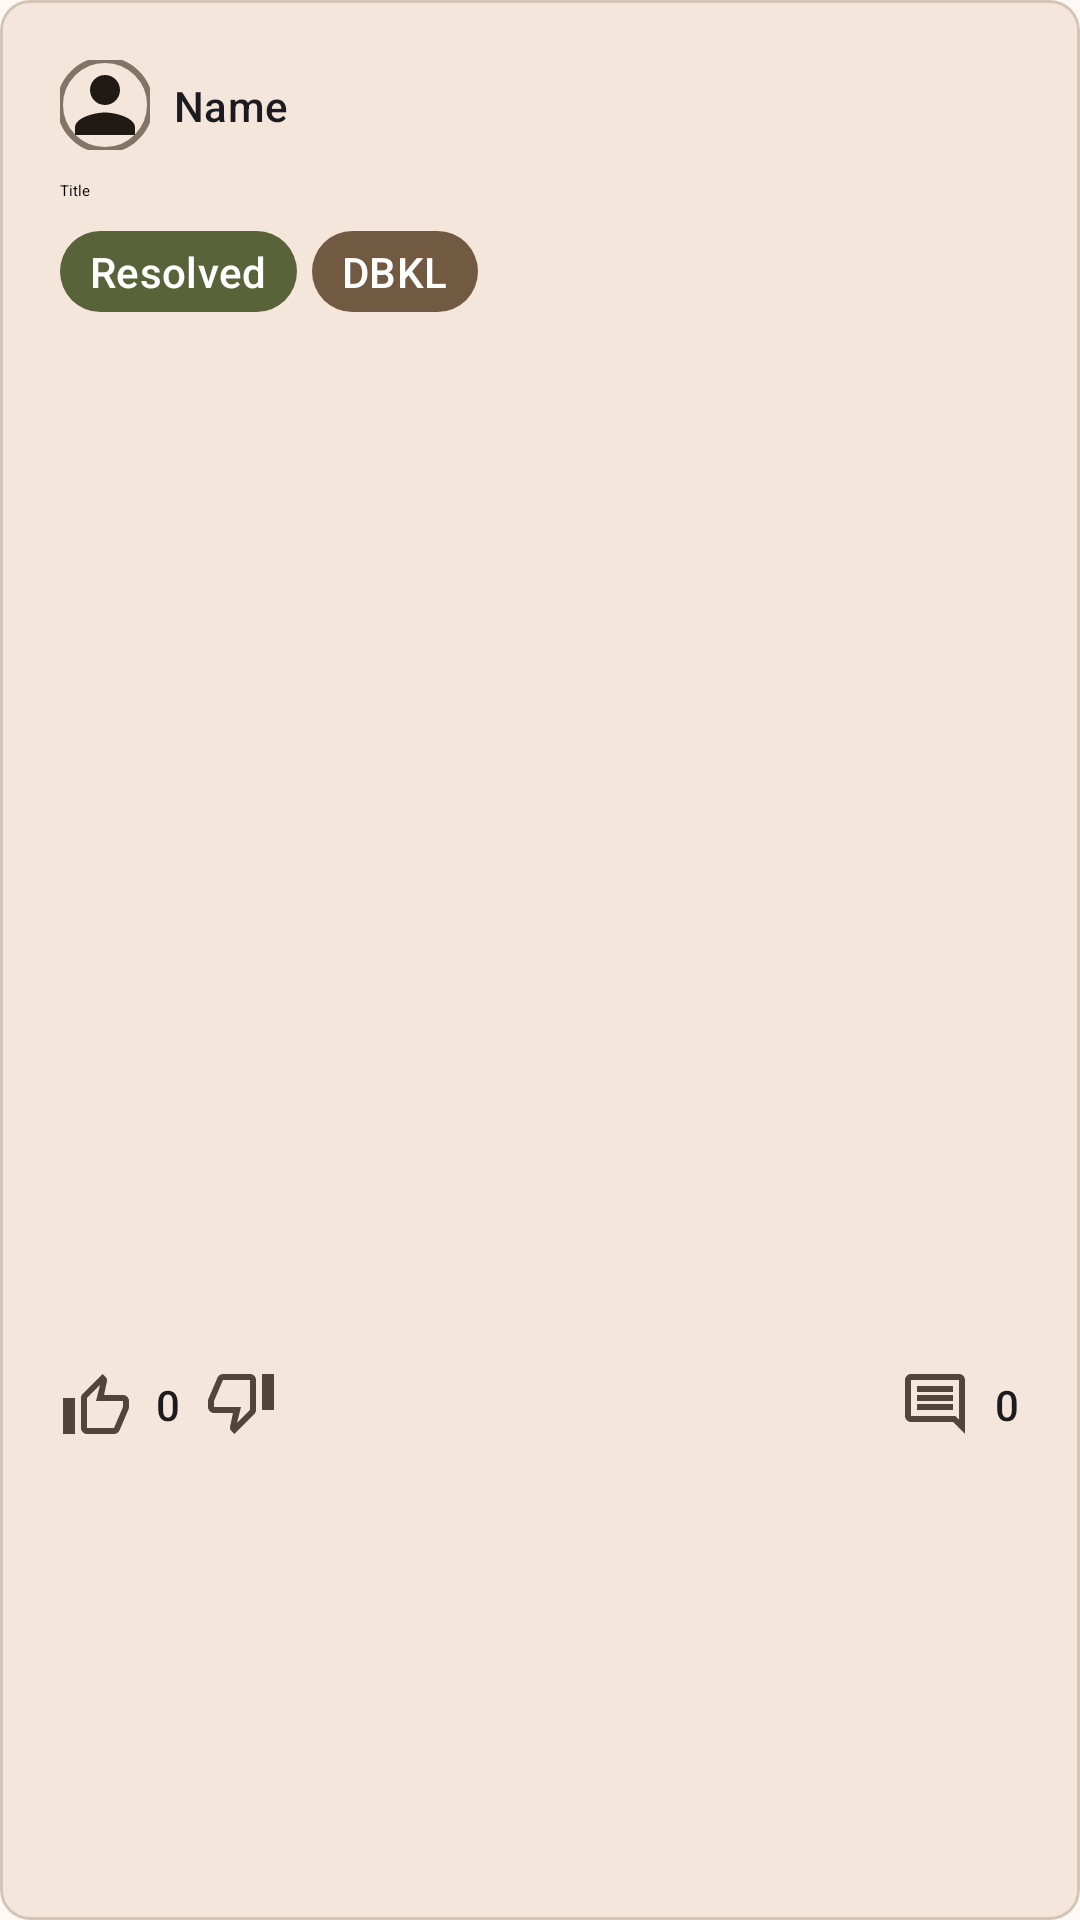

Where to tap for icons on this 1080*1920 app screen, as (x,y):
comment: (935,1404)
profile: (105,105)
thumb down: (241,1404)
thumb up: (96,1404)
